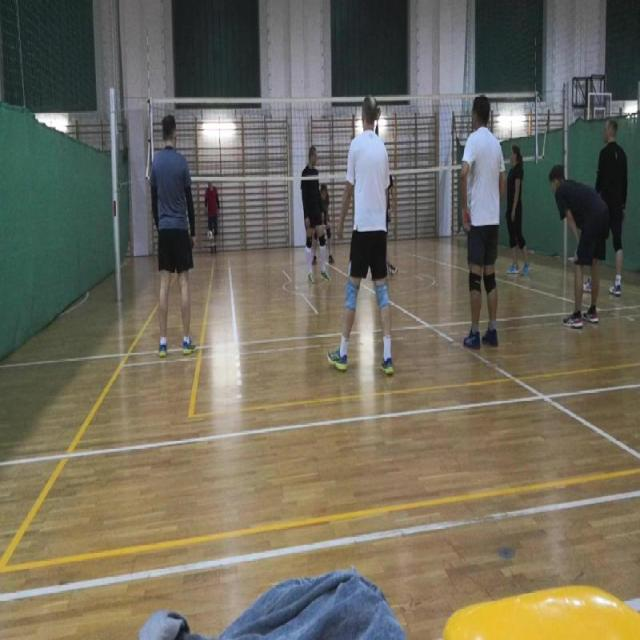volleyball: (207, 230, 213, 242)
